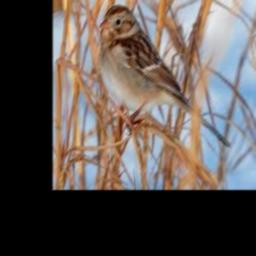Sparrow: (99, 5, 230, 149)
